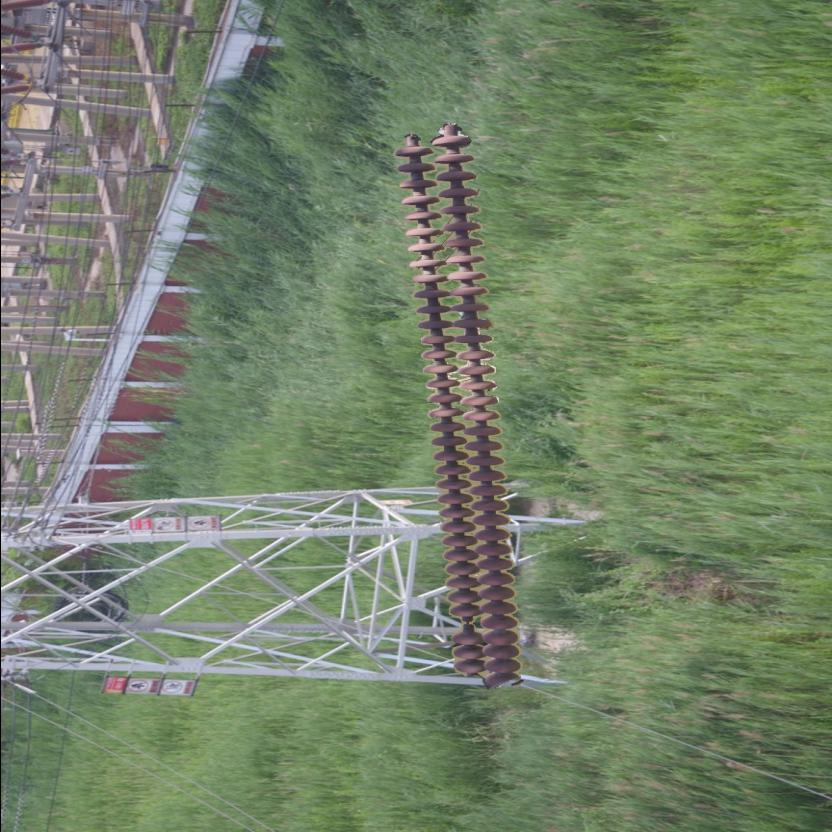defect: (446, 606, 483, 648)
